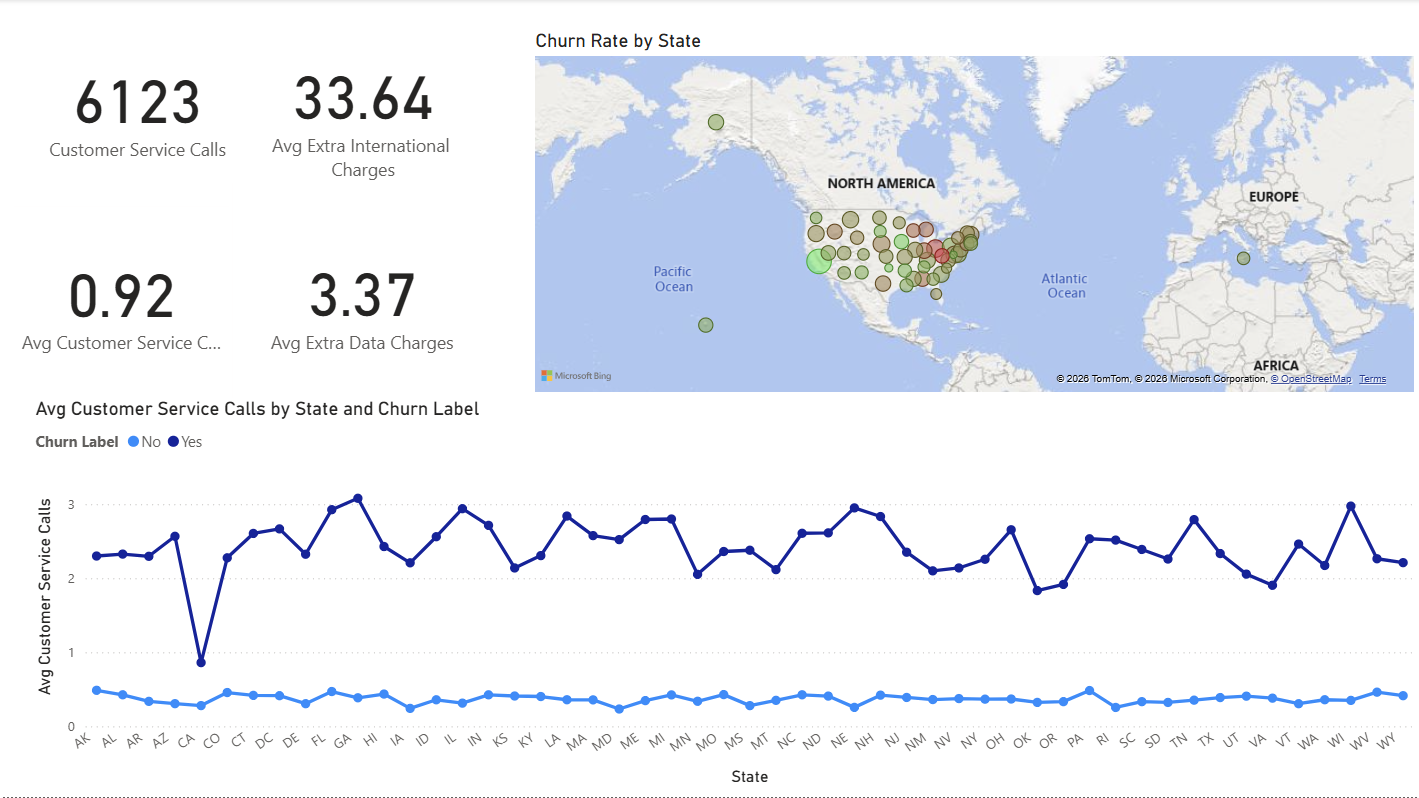

Layout of this report page (visuals, bound fields, positions):
{"tool":"powerbi","page":{"name":"Insights","canvas":[1280,720],"ordinal":9},"visuals":[{"type":"card","fields":{"Values":["Sum(Databel - Data.Customer Service Calls)"]},"box":[27.6,6.1,194.4,182.2],"z":0},{"type":"card","fields":{"Values":["Databel - Data.Avg Customer Service Calls"]},"box":[12.2,186.8,194.4,168.4],"z":1000},{"type":"card","fields":{"Values":["Databel - Data.Avg Extra International Charges"]},"box":[222,0,211.3,186.8],"z":2000},{"type":"card","fields":{"Values":["Databel - Data.Avg Extra Data Charges"]},"box":[209.8,165.4,234.3,209.8],"z":3000},{"type":"lineChart","fields":{"Category":["Databel - Data.State"],"Y":["Databel - Data.Avg Customer Service Calls"],"Series":["Databel - Data.Churn Label"]},"box":[27.2,359.9,1252.8,355],"z":4000},{"type":"map","fields":{"Category":["Databel - Data.State"],"Size":["Databel - Data.Churn Rate"]},"box":[477.7,27.6,802.3,332.2],"z":5000}]}

Visuals, with their boxes in screenshot pixels (x1, y1, x2, y2), scaled from the page's 1280x720 canvas onto the 1419x798 screenshot:
card - Sum(Databel - Data.Customer Service Calls): locate(31, 7, 246, 209)
card - Databel - Data.Avg Customer Service Calls: locate(14, 207, 229, 394)
card - Databel - Data.Avg Extra International Charges: locate(246, 0, 480, 207)
card - Databel - Data.Avg Extra Data Charges: locate(233, 183, 492, 416)
lineChart - Databel - Data.State x Databel - Data.Avg Customer Service Calls: locate(30, 399, 1418, 792)
map - Databel - Data.State x Databel - Data.Churn Rate: locate(530, 31, 1418, 399)
